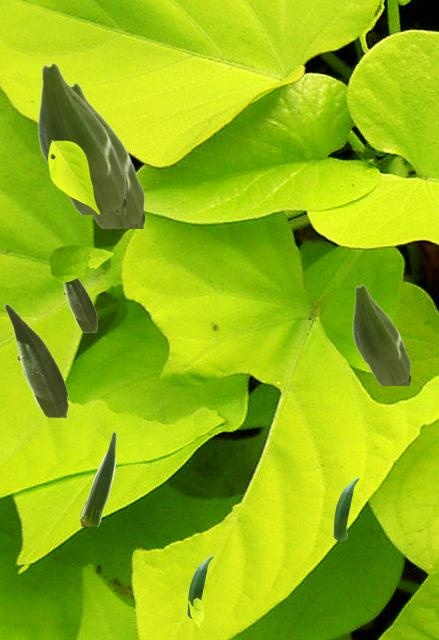okra: (37, 62, 124, 213), (70, 82, 143, 227), (4, 303, 67, 416), (352, 284, 409, 384), (79, 431, 115, 525), (62, 278, 96, 331), (333, 477, 358, 539), (187, 555, 212, 617)
